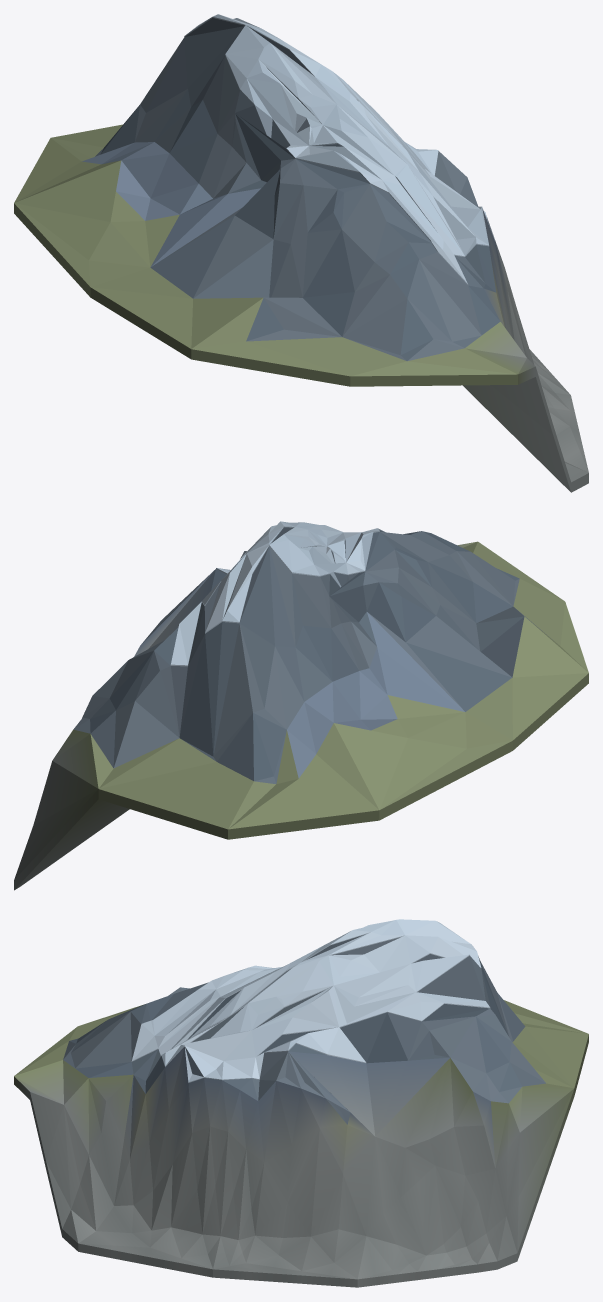
File: massif_cirque_wall_cirque54v2.glb
3 views of the same model, one above another, from view 1: azimuth 30°, elevation 25°; view 2: azimuth 150°, elevation 25°; view 3: azimuth 270°, elevation 25° (orthographic). The views are drawn at different scales.
Parts seen in each view (by area): view 1: remodeled_cirque_body, snow_gully_b, snow_gully_a, upper_snow_basin; view 2: remodeled_cirque_body, snow_gully_b, snow_gully_a, upper_snow_basin; view 3: remodeled_cirque_body, snow_gully_a, snow_gully_b.
Boxes of the visible parts, x1,y1,x2,y2 form: remodeled_cirque_body: [14, 18, 588, 492]; snow_gully_b: [225, 43, 476, 284]; snow_gully_a: [184, 15, 494, 246]; upper_snow_basin: [212, 14, 289, 57]; remodeled_cirque_body: [14, 527, 588, 890]; snow_gully_b: [280, 521, 385, 587]; snow_gully_a: [170, 521, 301, 666]; upper_snow_basin: [252, 527, 295, 573]; remodeled_cirque_body: [14, 934, 588, 1287]; snow_gully_a: [161, 919, 490, 1082]; snow_gully_b: [131, 931, 350, 1061].
Size of the model in its own units: 454 by 346 by 651.
